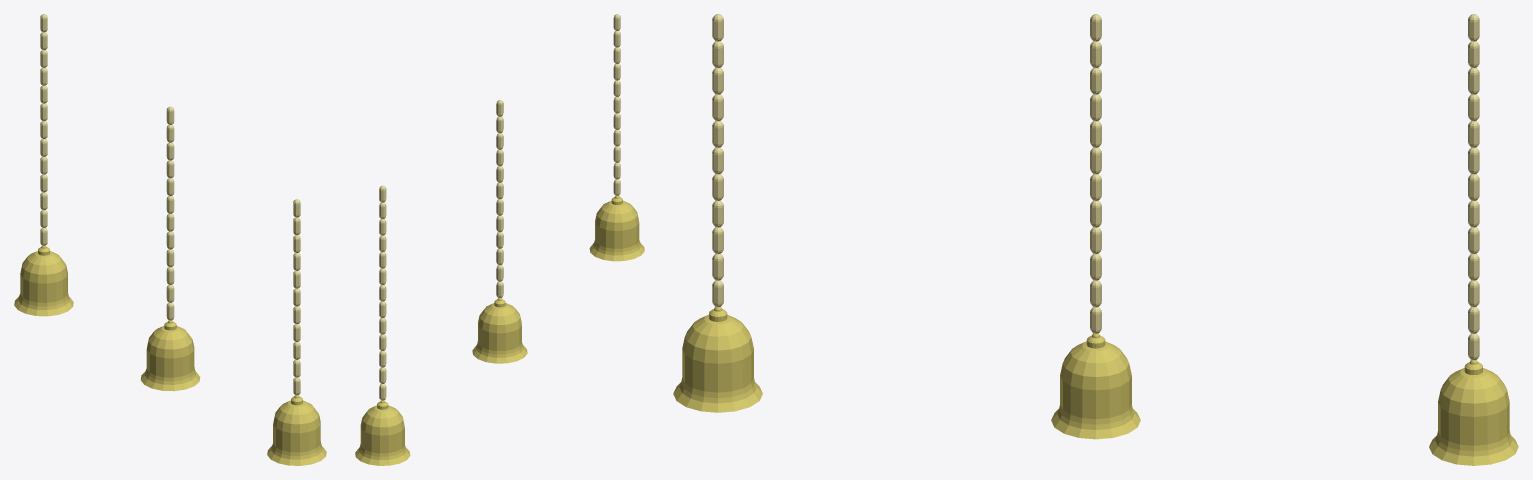
File: trick4_interactive.fbx
The picture shows the model from 3 angles, left to right: view 1: azimuth 30°, elevation 25°; view 2: azimuth 150°, elevation 25°; view 3: azimuth 270°, elevation 25°; orthographic projection. The views are drawn at different scales.
Visible parts, largest first — view 1: bell_2, bell_3, bell, string_2, string, string_3; view 2: bell, bell_3, bell_2, string_3, string_2, string; view 3: bell, bell_3, bell_2, string_2, string, string_3.
Part boxes in pixels (box(x1,y1,x2,y2)): bell_2: box(140, 320, 200, 391); bell_3: box(14, 245, 73, 316); bell: box(267, 395, 326, 465); string_2: box(166, 106, 174, 160); string: box(293, 199, 300, 253); string_3: box(40, 14, 47, 67); bell: box(589, 195, 644, 261); bell_3: box(355, 400, 410, 465); bell_2: box(472, 298, 527, 363); string_3: box(379, 185, 386, 235); string_2: box(496, 100, 503, 149); string: box(613, 14, 620, 63); bell: box(673, 306, 762, 412); bell_3: box(1429, 360, 1518, 465); bell_2: box(1051, 333, 1140, 439); string_2: box(1090, 14, 1101, 94); string: box(712, 14, 723, 94); string_3: box(1468, 14, 1479, 94).
Size of the model in its own units: 138 by 749 by 1298.
